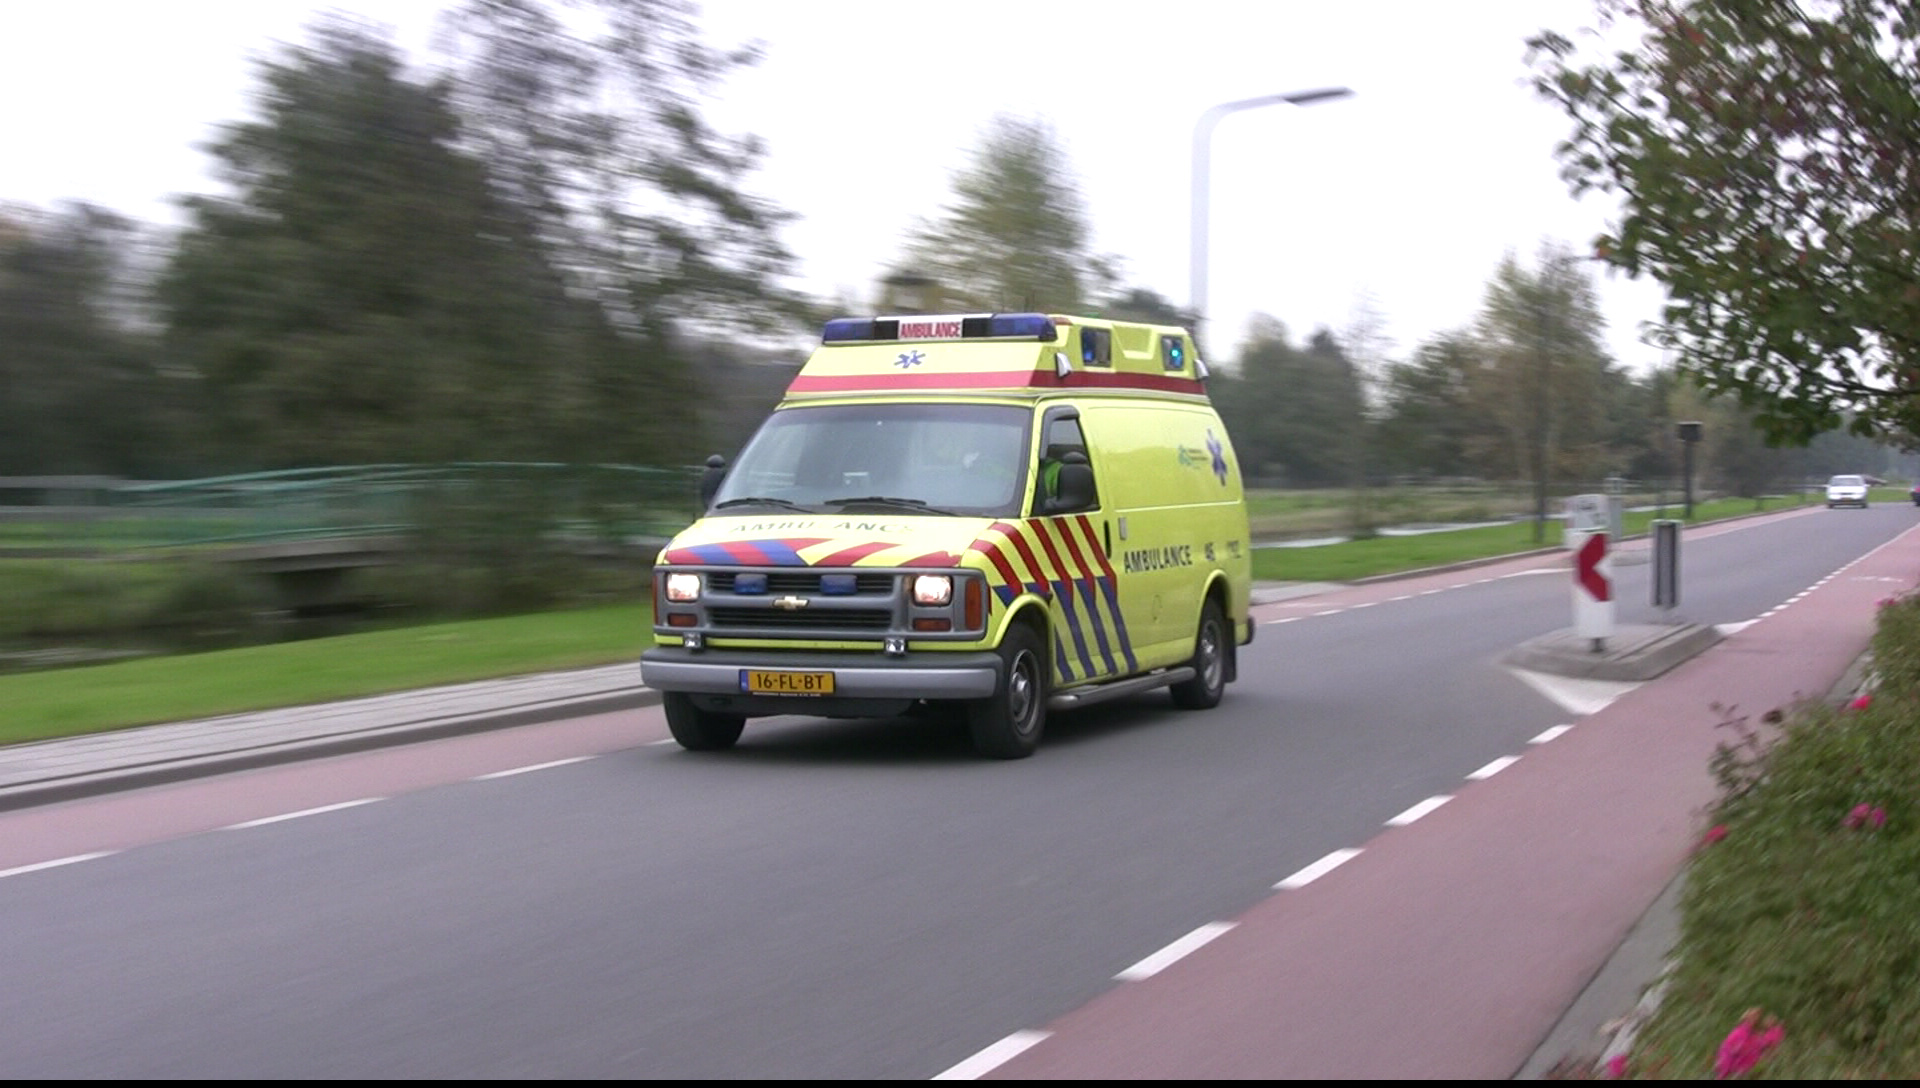special: (645, 309, 1257, 768)
